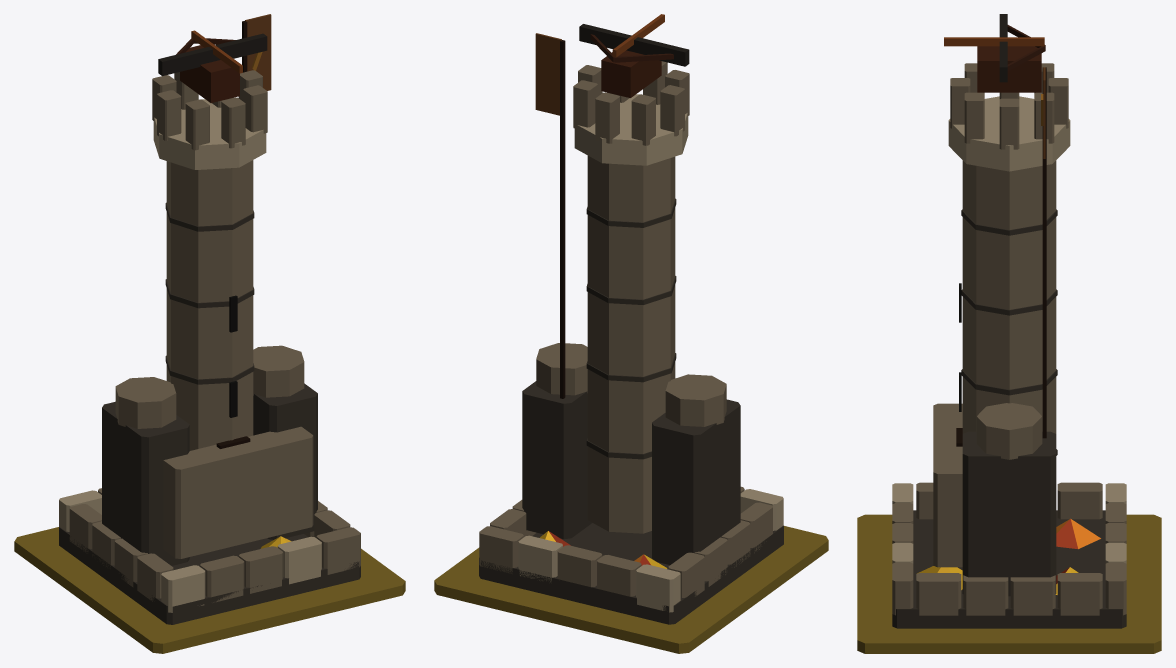
File: bastion_t4.glb
3 renders of one model, left to right at view 1: azimuth 30°, elevation 25°; view 2: azimuth 150°, elevation 25°; view 3: azimuth 270°, elevation 25°, orthographic. The views are drawn at different scales.
Visible parts, largest first — view 1: MMR | bastion | T04 Architecture.001, MMR | bastion | T04 Heavy Buttresses.001, MMR | bastion | Tier 04 Ground.001, MMR | bastion | T04 Banner Flag 1.001; view 2: MMR | bastion | T04 Architecture.001, MMR | bastion | T04 Heavy Buttresses.001, MMR | bastion | Tier 04 Ground.001, MMR | bastion | T04 Banner Flag 1.001; view 3: MMR | bastion | T04 Architecture.001, MMR | bastion | T04 Heavy Buttresses.001, MMR | bastion | Tier 04 Ground.001, MMR | bastion | T04 Autumn Dressing.001.
Boxes of the visible parts, box(x1,y1,x2,y2) form: MMR | bastion | T04 Architecture.001: box(59, 21, 360, 624); MMR | bastion | T04 Heavy Buttresses.001: box(102, 345, 317, 565); MMR | bastion | Tier 04 Ground.001: box(14, 527, 405, 653); MMR | bastion | T04 Banner Flag 1.001: box(245, 14, 271, 90); MMR | bastion | T04 Architecture.001: box(479, 14, 783, 624); MMR | bastion | T04 Heavy Buttresses.001: box(522, 343, 740, 564); MMR | bastion | Tier 04 Ground.001: box(434, 526, 828, 653); MMR | bastion | T04 Banner Flag 1.001: box(535, 33, 561, 115); MMR | bastion | T04 Architecture.001: box(892, 14, 1126, 628); MMR | bastion | T04 Heavy Buttresses.001: box(933, 403, 1056, 596); MMR | bastion | Tier 04 Ground.001: box(857, 514, 1161, 653); MMR | bastion | T04 Autumn Dressing.001: box(917, 518, 1100, 594).
Size of the model in its own units: 1.3 by 2.6 by 1.3.
1 material, 1 textured.
